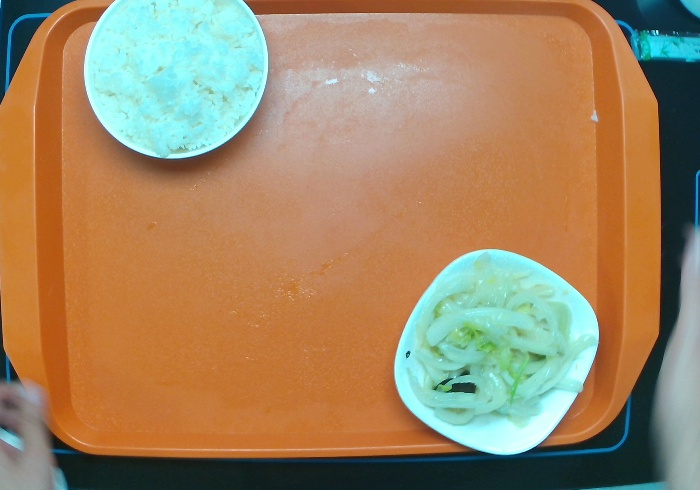ZNLD-Fan_Wan: (81, 1, 271, 161)
ZNLD-Si_Fang_Wan: (392, 246, 601, 456)
